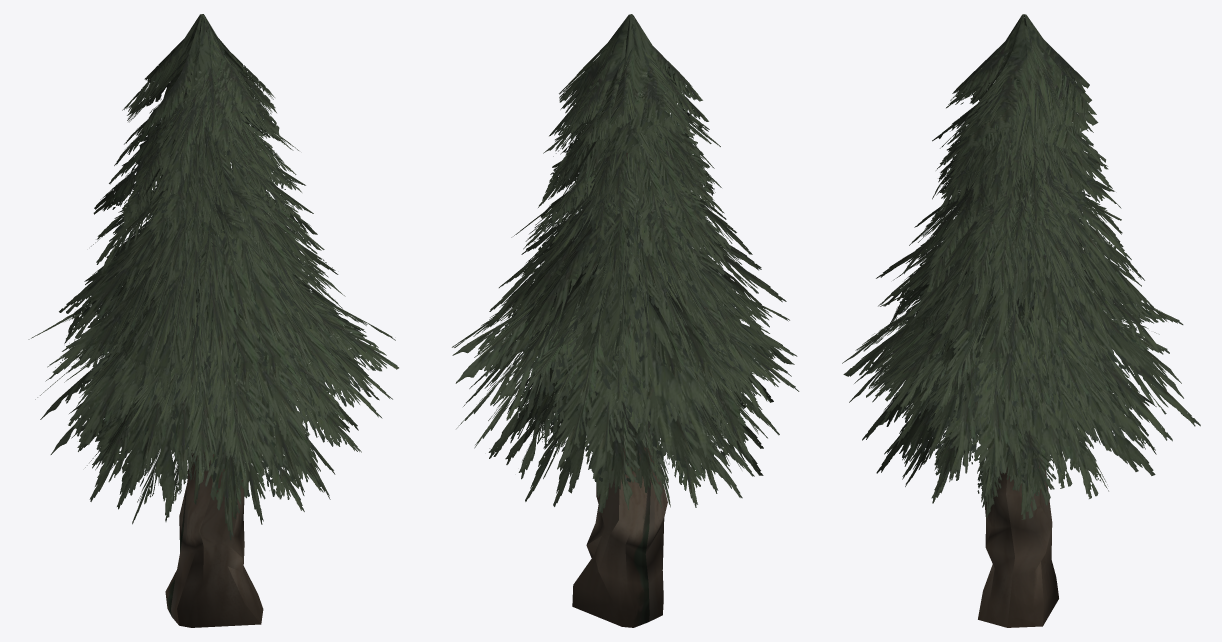
The model's file is PinetreeModel.fbx.
The picture shows the model from 3 angles, left to right: view 1: azimuth 30°, elevation 25°; view 2: azimuth 150°, elevation 25°; view 3: azimuth 270°, elevation 25°; orthographic projection. The views are drawn at different scales.
Parts seen in each view (by area): view 1: PineTreeModel; view 2: PineTreeModel; view 3: PineTreeModel.
Part boxes in pixels (<box>): PineTreeModel: <box>28,14,398,627</box>; PineTreeModel: <box>452,14,799,627</box>; PineTreeModel: <box>842,14,1200,627</box>.
Bounding box in the file's own units: 803 × 1448 × 832.
2 materials, 2 textured.
